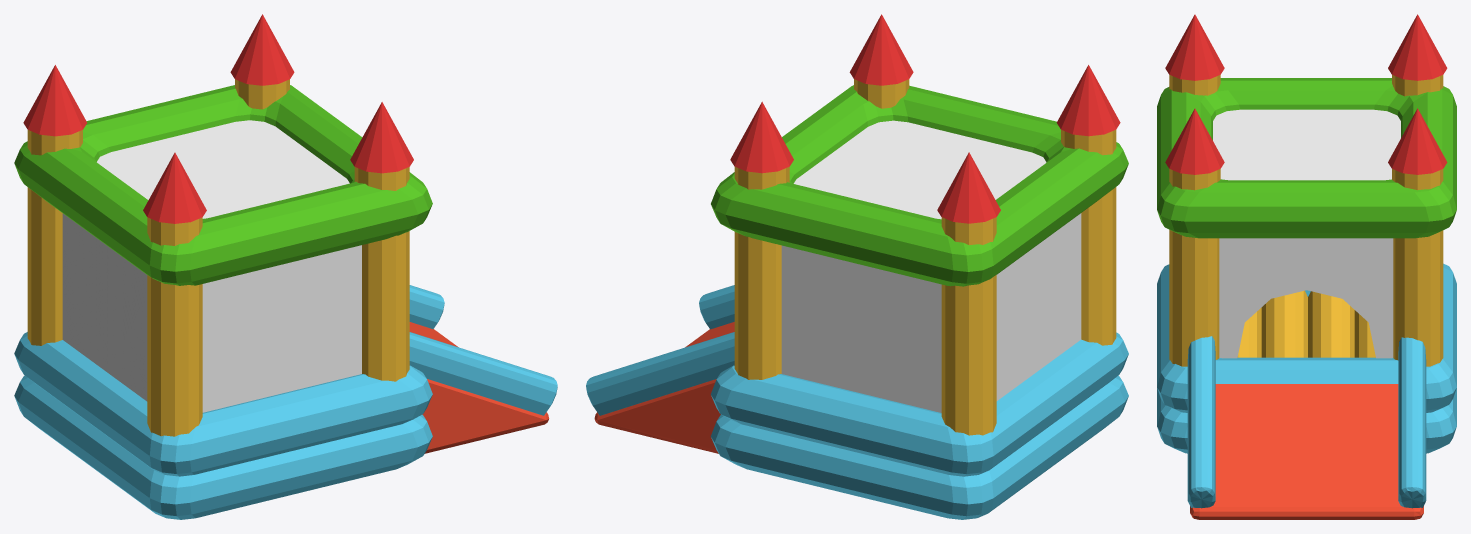
Rendered from Bouncing_Park_lvl_01.fbx.
3 renders of one model, left to right at view 1: azimuth 30°, elevation 25°; view 2: azimuth 150°, elevation 25°; view 3: azimuth 270°, elevation 25°, orthographic. The views are drawn at different scales.
Visible parts, largest first — view 1: Bouncing_Park_lvl_01; view 2: Bouncing_Park_lvl_01; view 3: Bouncing_Park_lvl_01.
Boxes of the visible parts, left/top/right/bottom form: Bouncing_Park_lvl_01: left=14, top=14, right=557, bottom=519; Bouncing_Park_lvl_01: left=586, top=14, right=1128, bottom=519; Bouncing_Park_lvl_01: left=1157, top=14, right=1456, bottom=519.
Bounding box in the file's own units: 23.86 × 20.02 × 16.08.
